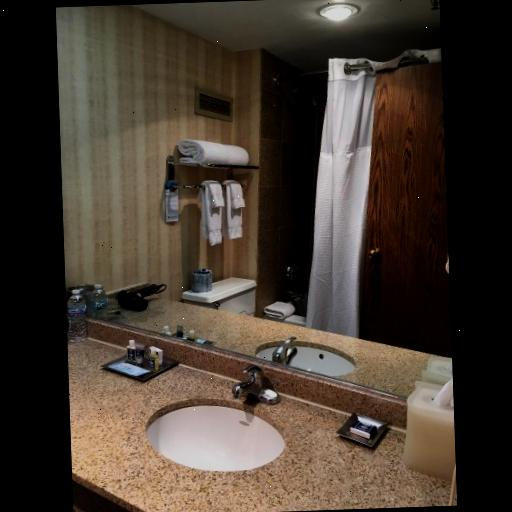clean_sink: (74, 306, 454, 512)
folded_towel: (190, 176, 252, 249), (175, 134, 247, 168)
